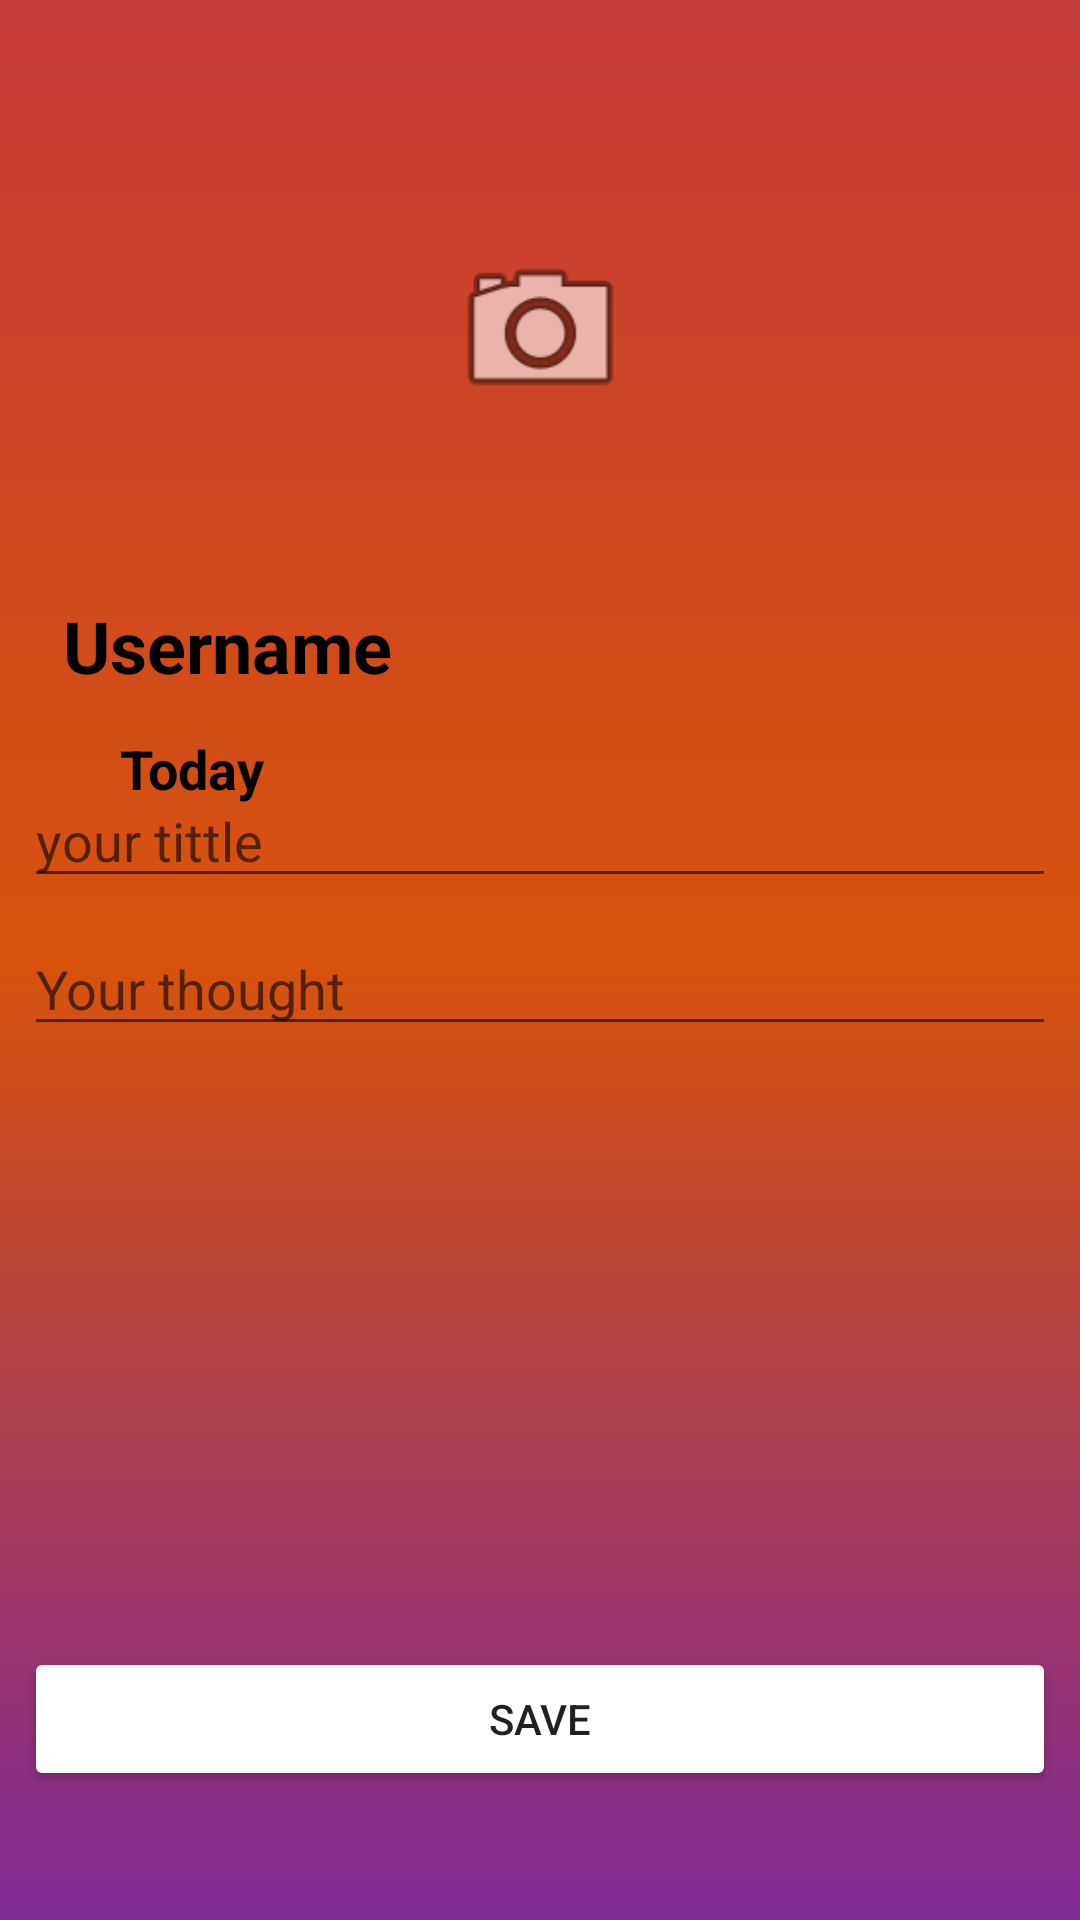

Named icons in this screenshot (1080x1920) and their centers, [x,y]:
camera: [540,327]
